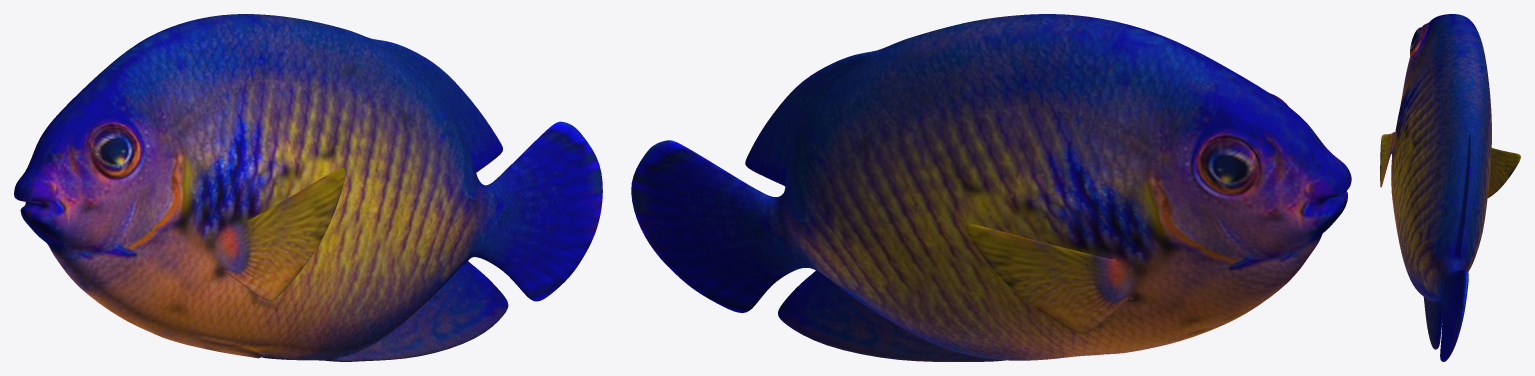
Rendered from fish.glb.
3 renders of one model, left to right at view 1: azimuth 30°, elevation 25°; view 2: azimuth 150°, elevation 25°; view 3: azimuth 270°, elevation 25°, orthographic. The views are drawn at different scales.
Visible parts, largest first — view 1: fishfish; view 2: fishfish; view 3: fishfish.
Part boxes in pixels (x1,y1,x2,y2): fishfish: (14, 14, 602, 361); fishfish: (631, 14, 1351, 361); fishfish: (1380, 14, 1520, 361).
Size of the model in its own units: 1.18 by 0.6775 by 0.3636.
Materials: 1 (1 with a texture image).
